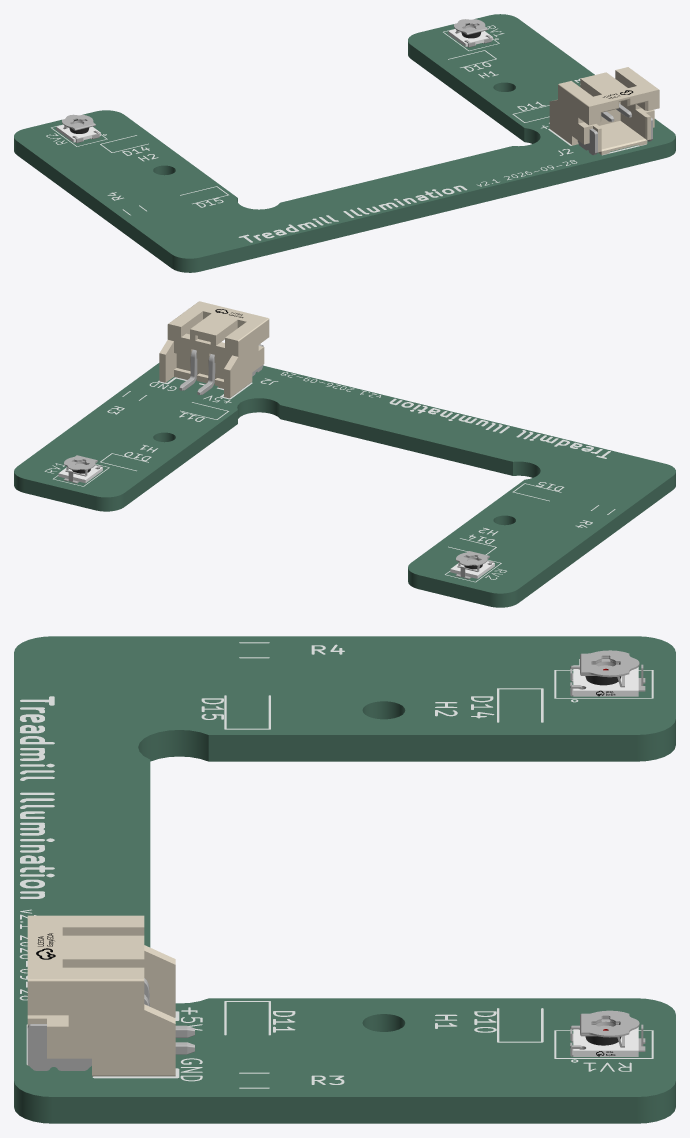
The model's file is Treadmill-Illumination-2-v2.1.glb.
3 views of the same model, one above another, from view 1: azimuth 30°, elevation 25°; view 2: azimuth 150°, elevation 25°; view 3: azimuth 270°, elevation 25° (orthographic). The views are drawn at different scales.
Visible parts, largest first — view 1: =>[0:1:1:8], =>[0:1:1:5], =>[0:1:1:6], =>[0:1:1:3] (×2); view 2: =>[0:1:1:8], =>[0:1:1:5], =>[0:1:1:6], =>[0:1:1:3] (×2); view 3: =>[0:1:1:8], =>[0:1:1:5], =>[0:1:1:6], =>[0:1:1:3] (×2).
Part boxes in pixels (x1,y1,x2,y2): =>[0:1:1:8]: (14, 14, 675, 272); =>[0:1:1:5]: (549, 67, 659, 155); =>[0:1:1:6]: (46, 25, 646, 242); =>[0:1:1:3] (×2): (56, 19, 492, 143); =>[0:1:1:8]: (14, 363, 675, 607); =>[0:1:1:5]: (159, 301, 269, 398); =>[0:1:1:6]: (44, 372, 615, 582); =>[0:1:1:3] (×2): (58, 455, 494, 579); =>[0:1:1:8]: (14, 636, 675, 1123); =>[0:1:1:5]: (27, 915, 194, 1076); =>[0:1:1:6]: (19, 642, 653, 1088); =>[0:1:1:3] (×2): (570, 650, 645, 1056).
Bounding box in the file's own units: 0.056 × 0.00717 × 0.034.
